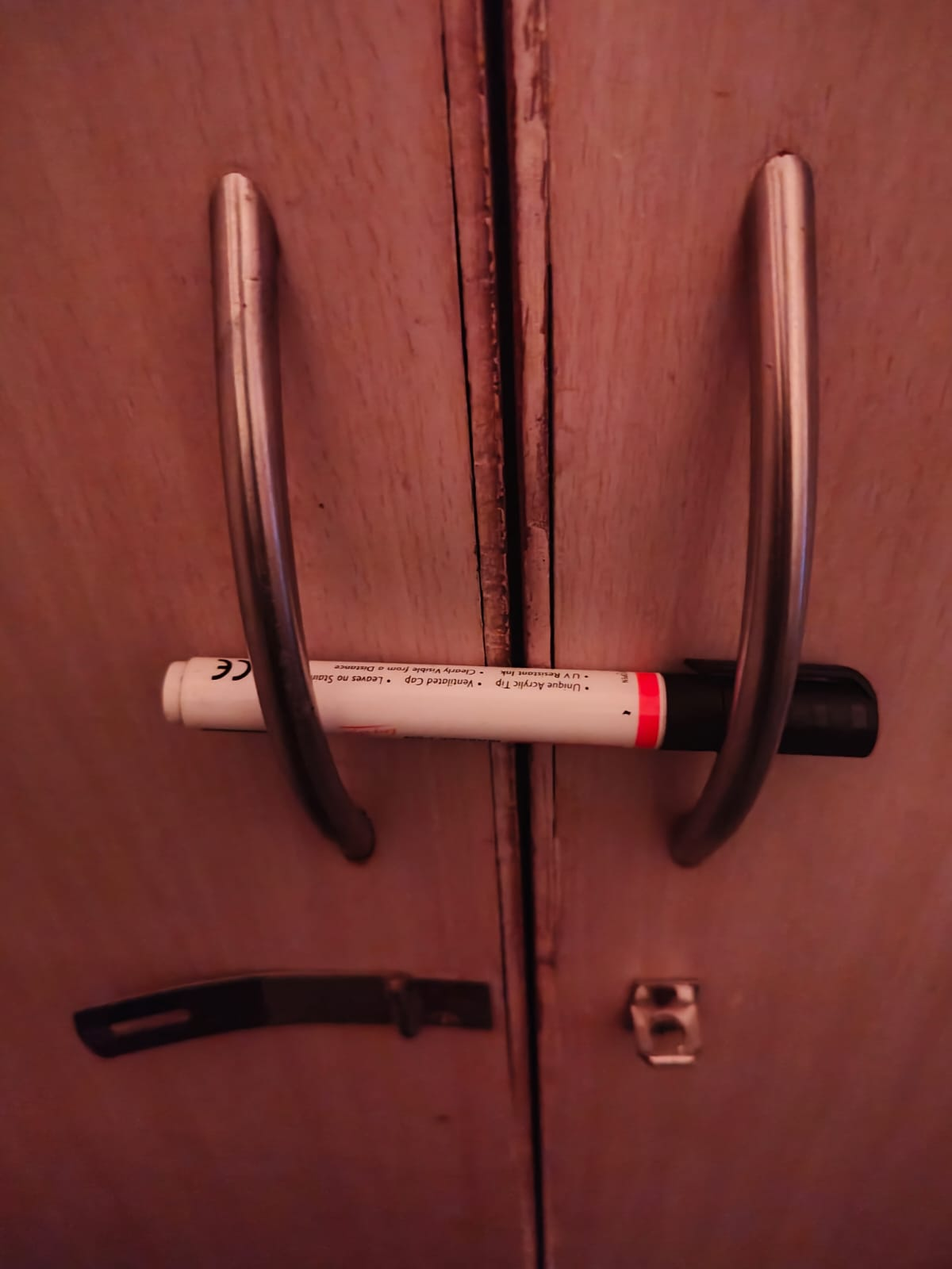case: (136, 584, 925, 806)
